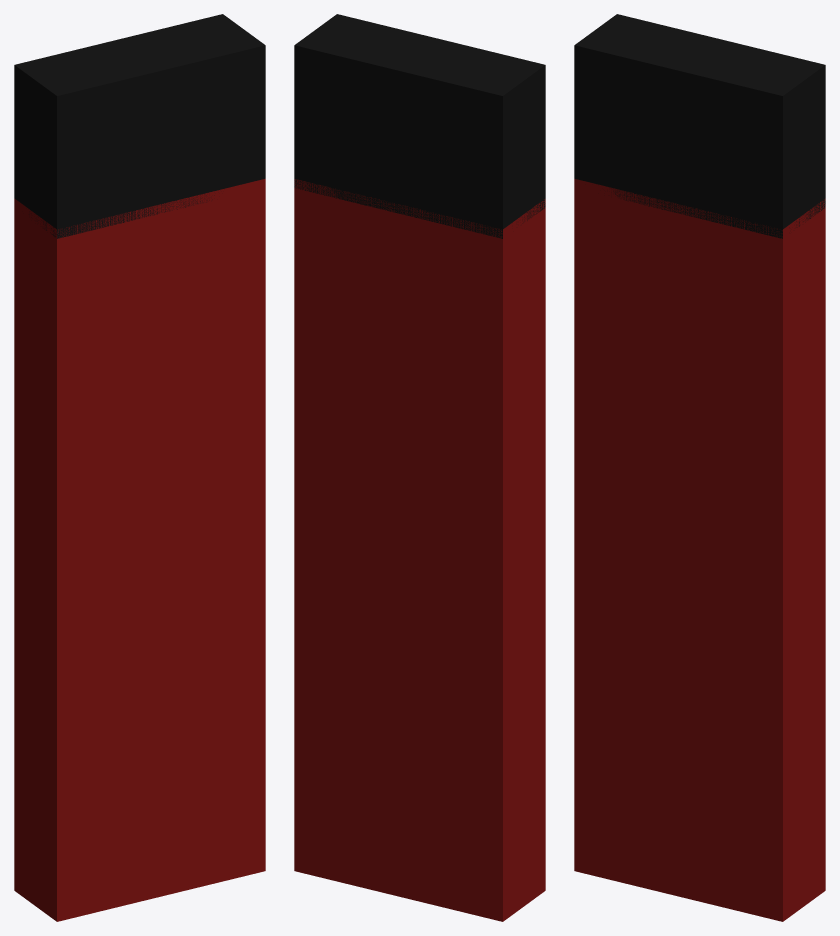
Rendered from lighter.fbx.
3 renders of one model, left to right at view 1: azimuth 30°, elevation 25°; view 2: azimuth 150°, elevation 25°; view 3: azimuth 330°, elevation 25°, orthographic.
Parts seen in each view (by area): view 1: Cube.001; view 2: Cube.001; view 3: Cube.001.
Part boxes in pixels (bbox=[...]): Cube.001: bbox=[14, 14, 265, 921]; Cube.001: bbox=[294, 14, 545, 921]; Cube.001: bbox=[574, 14, 825, 921].
Size of the model in its own units: 1.62 by 6.14 by 0.5748.
